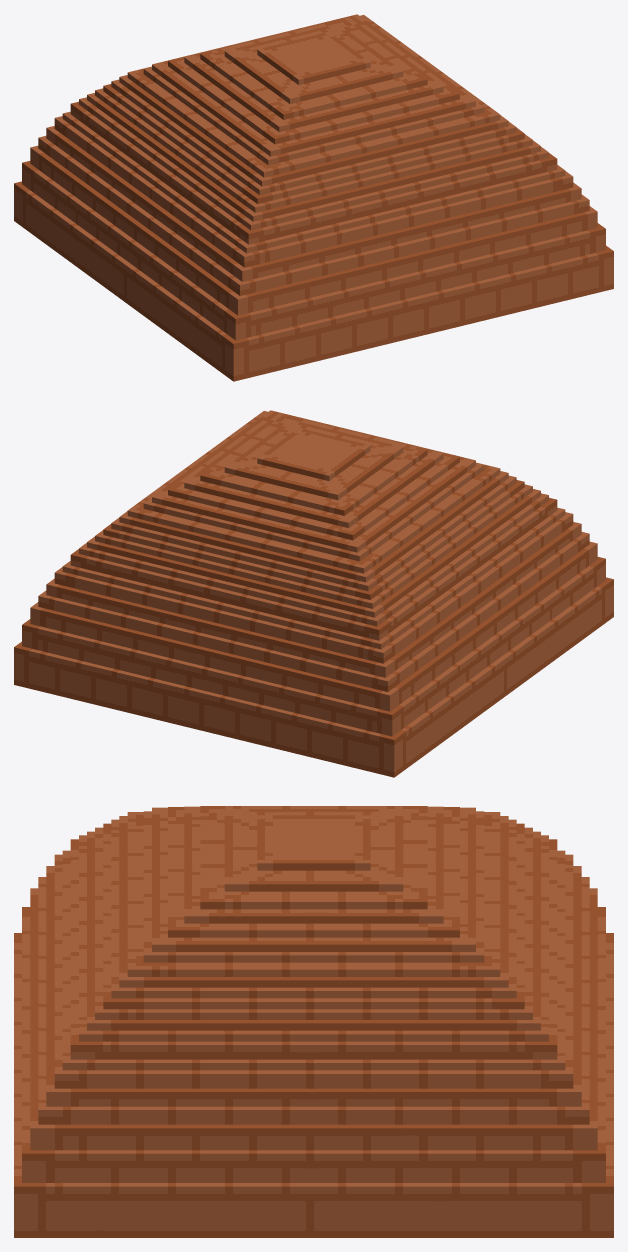
Rendered from roof_textured_orange_oval_cube.glb.
3 renders of one model, top to bottom at view 1: azimuth 30°, elevation 25°; view 2: azimuth 150°, elevation 25°; view 3: azimuth 270°, elevation 25°, orthographic. The views are drawn at different scales.
Visible parts, largest first — view 1: GameObject; view 2: GameObject; view 3: GameObject.
Boxes of the visible parts, x1,y1,x2,y2 form: GameObject: (14,14,613,381); GameObject: (14,410,613,777); GameObject: (14,806,613,1237).
Size of the model in its own units: 7.4 by 3.7 by 7.4.
Materials: 1 (1 with a texture image).
